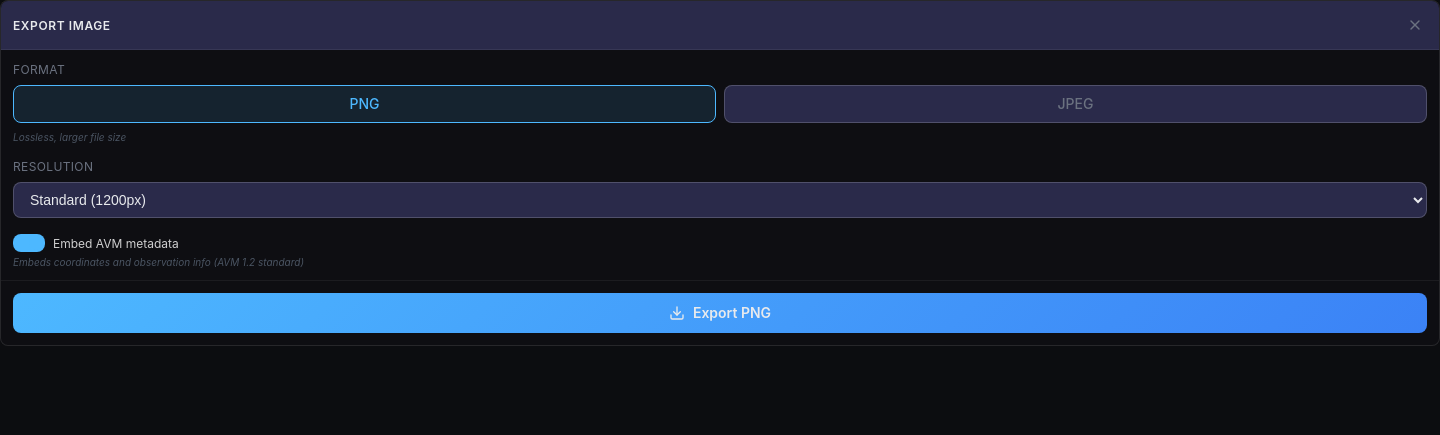
Test: ExportOptionsPanel › hides quality slider when PNG is selected
The width and height of the screenshot is (1440, 435).
Switch to JPEG first
Click the button "JPEG" at (1076, 104), box 724,85 -> 1427,123
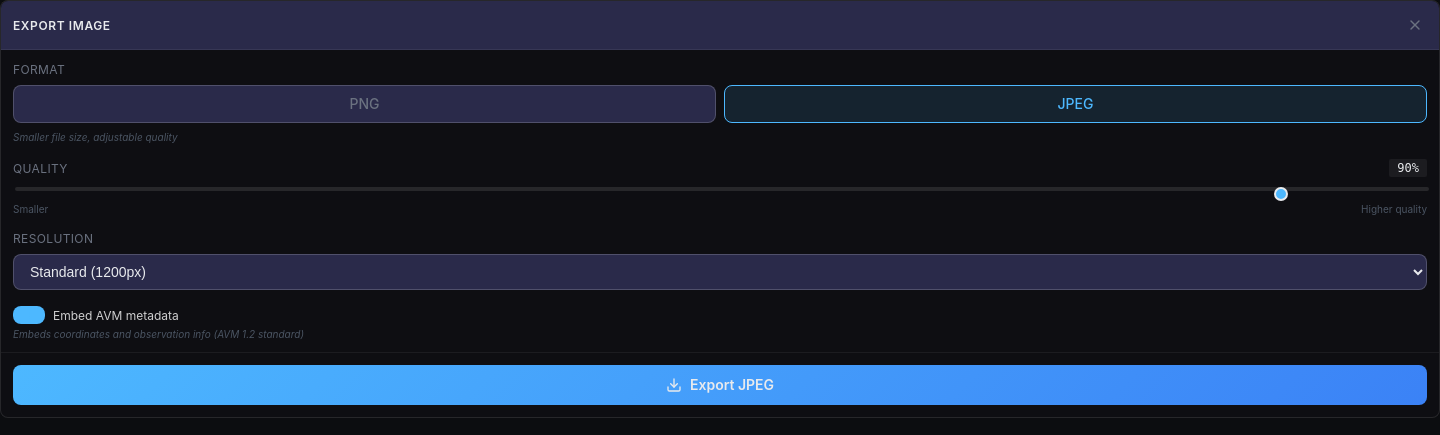
Expected: the text "Quality" is shown, 13,160 -> 68,176
Switch back to PNG
Click the button "PNG" at (364, 104), box 13,85 -> 716,123
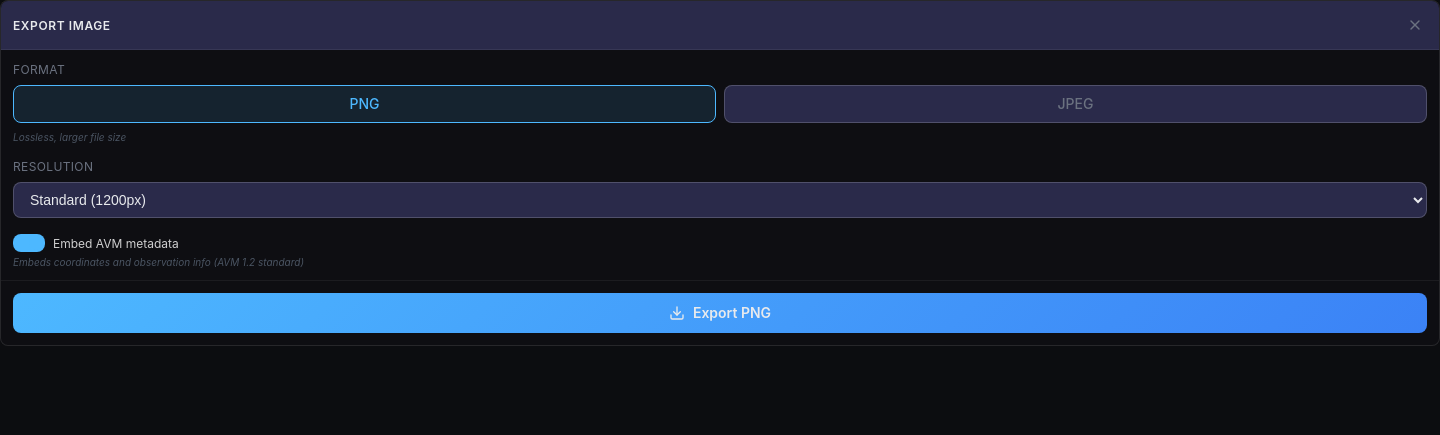
Expected: the text "quality" is gone
